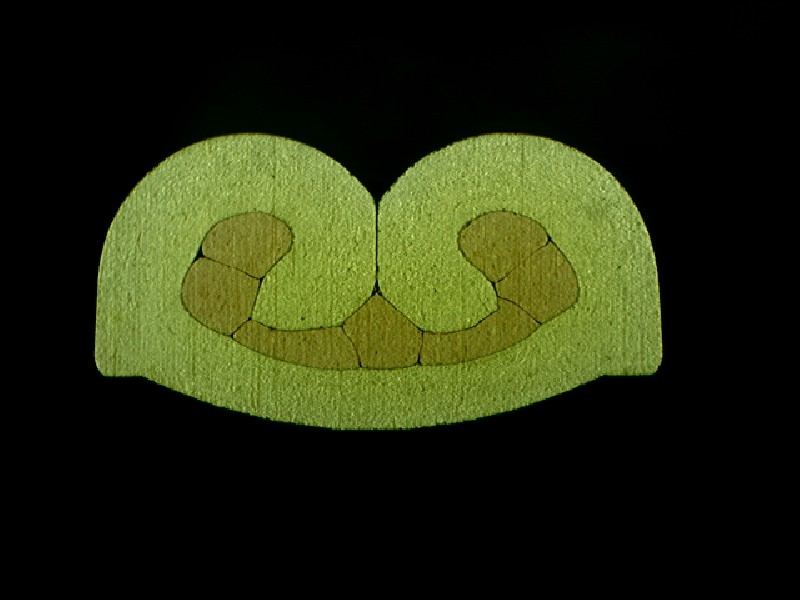crossing: (191, 243, 210, 262), (369, 283, 385, 298), (334, 320, 350, 331), (256, 273, 269, 285), (355, 361, 368, 373), (545, 233, 557, 246), (226, 330, 237, 343), (245, 312, 256, 324), (414, 358, 425, 368), (490, 278, 500, 289), (418, 326, 427, 337), (494, 292, 503, 301), (537, 320, 546, 328)
